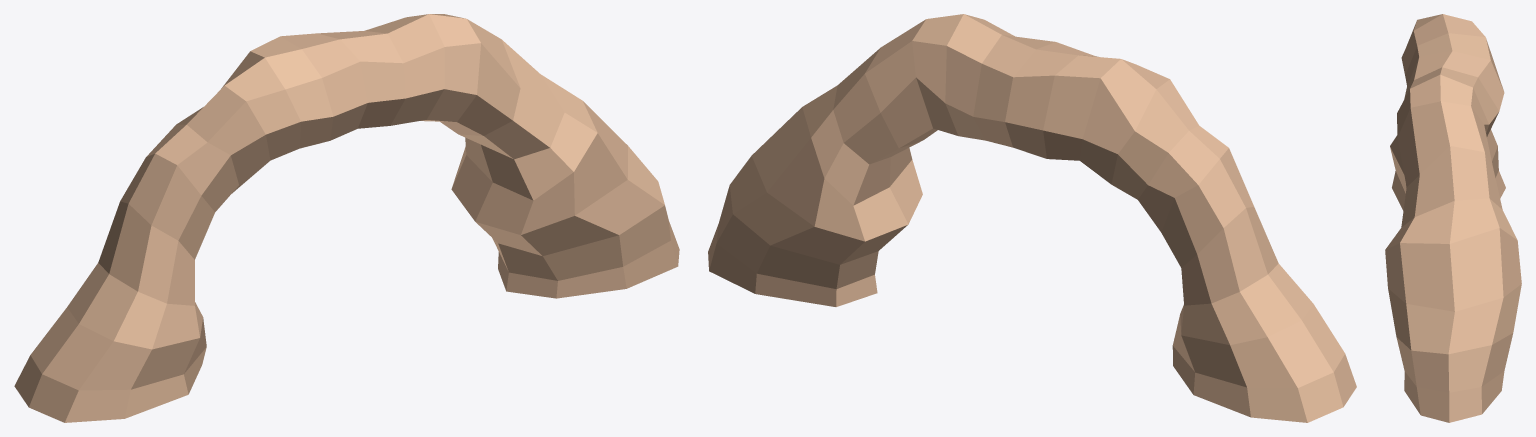
Rendered from Arch_Rock_5_2_2_v04_Colored.fbx.
The picture shows the model from 3 angles, left to right: view 1: azimuth 30°, elevation 25°; view 2: azimuth 150°, elevation 25°; view 3: azimuth 270°, elevation 25°; orthographic projection. The views are drawn at different scales.
Visible parts, largest first — view 1: Arch_Rock_5_2_2_v04; view 2: Arch_Rock_5_2_2_v04; view 3: Arch_Rock_5_2_2_v04.
Boxes of the visible parts, box(x1,y1,x2,y2) form: Arch_Rock_5_2_2_v04: box(14, 14, 679, 422); Arch_Rock_5_2_2_v04: box(708, 14, 1356, 422); Arch_Rock_5_2_2_v04: box(1385, 14, 1521, 422).
Bounding box in the file's own units: 897 × 398 × 200.
